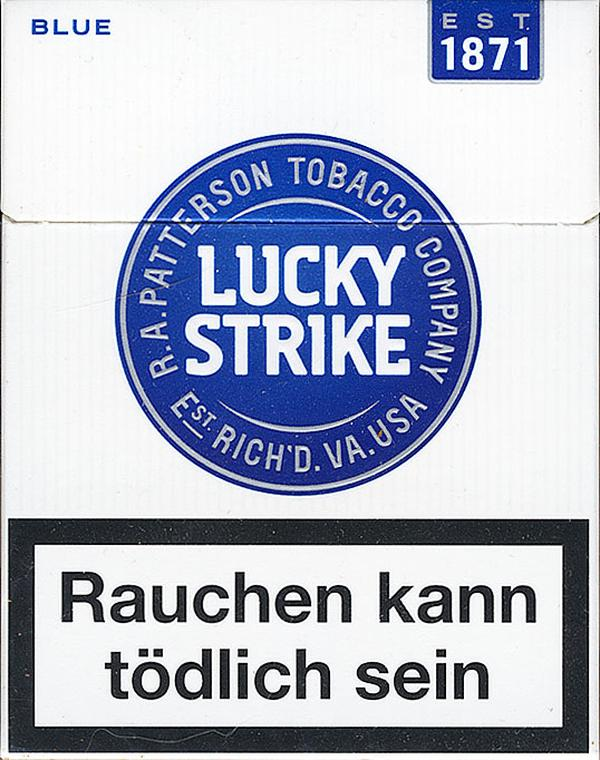lucky_strike_blue: (4, 1, 596, 759)
